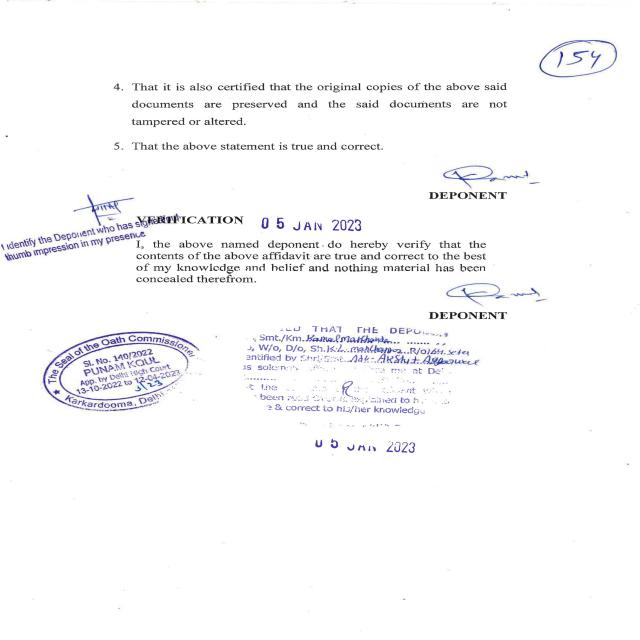page-number: (522, 21, 640, 103)
